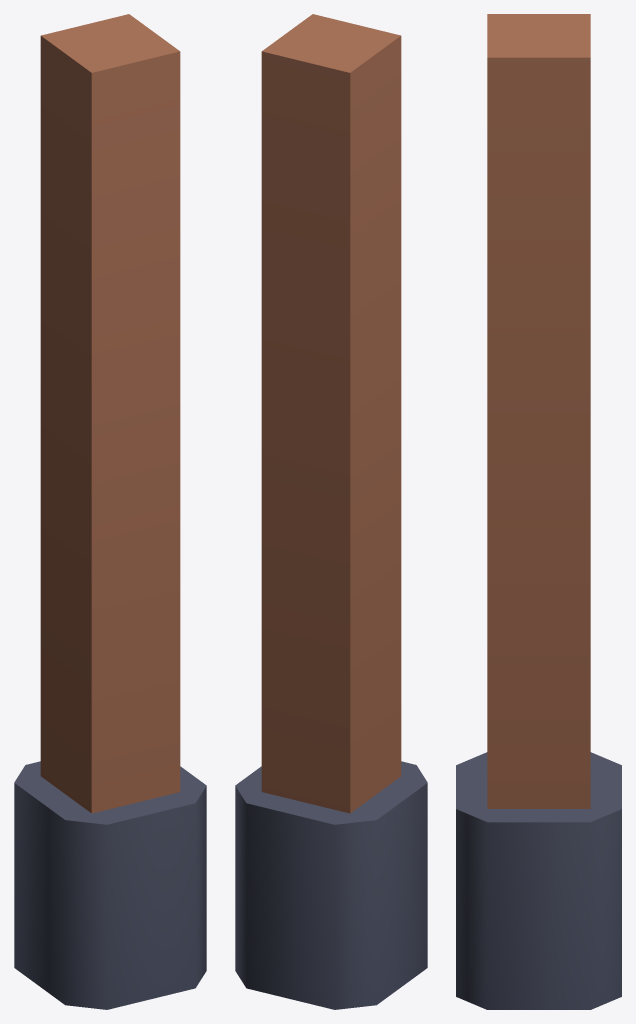
File: town-pillar-wood.glb
3 views of the same model, side by side, from view 1: azimuth 30°, elevation 25°; view 2: azimuth 150°, elevation 25°; view 3: azimuth 270°, elevation 25° (orthographic).
Visible parts, largest first — view 1: town-pillar-wood; view 2: town-pillar-wood; view 3: town-pillar-wood.
Part boxes in pixels (box(x1,y1,x2,y2)): town-pillar-wood: box(14, 14, 206, 1009); town-pillar-wood: box(235, 14, 427, 1009); town-pillar-wood: box(456, 14, 621, 1009).
Bounding box in the file's own units: 0.16 × 1 × 0.16.
